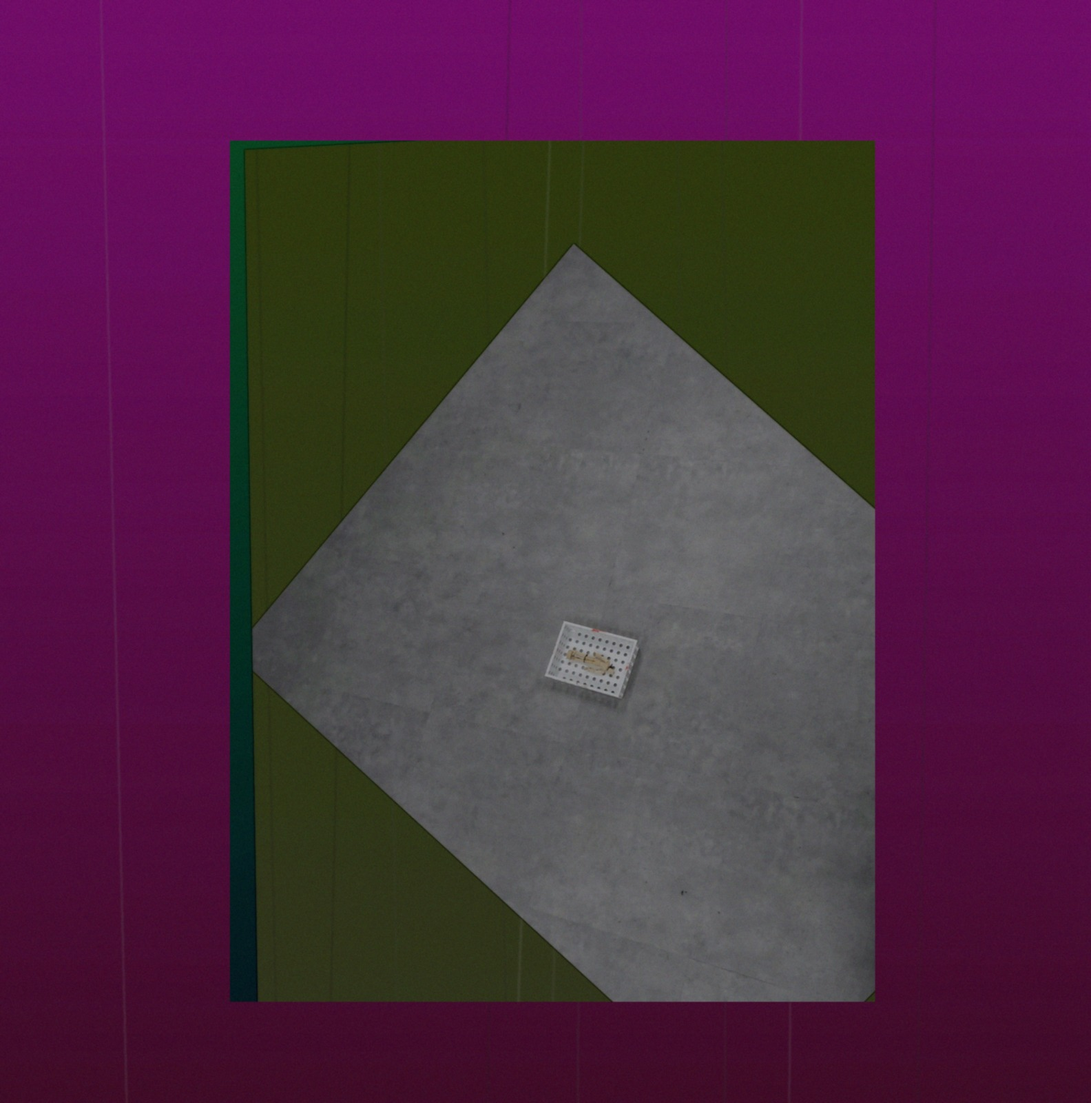basket: (542, 618, 641, 702)
mannequin: (565, 647, 617, 678)
